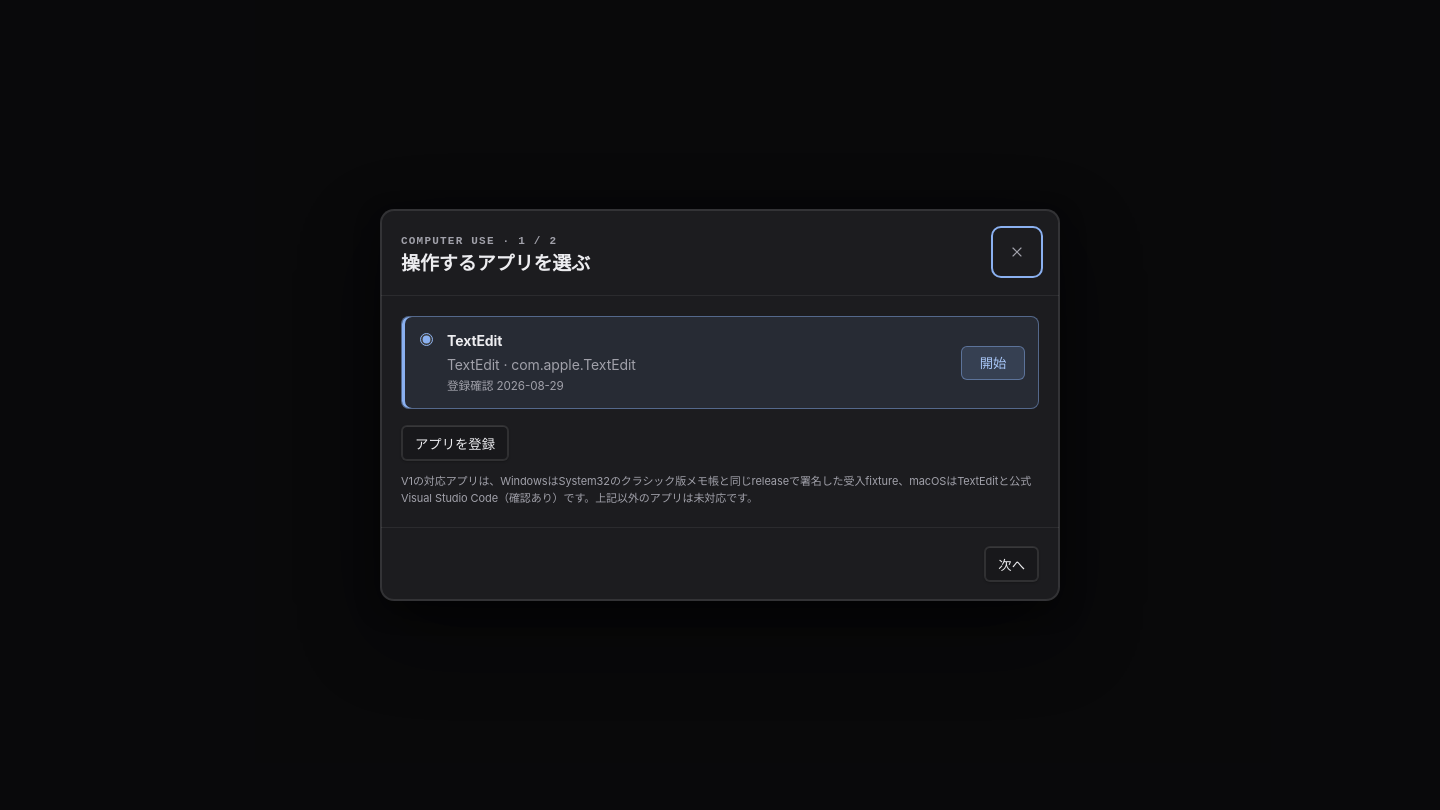
Test: Computer Use onboarding interaction › makes an unattested selected target explicitly supervised and never quick-starts it
The width and height of the screenshot is (1440, 810).
Click the button "開始".
click(993, 362)  # box [961,346,1025,380]
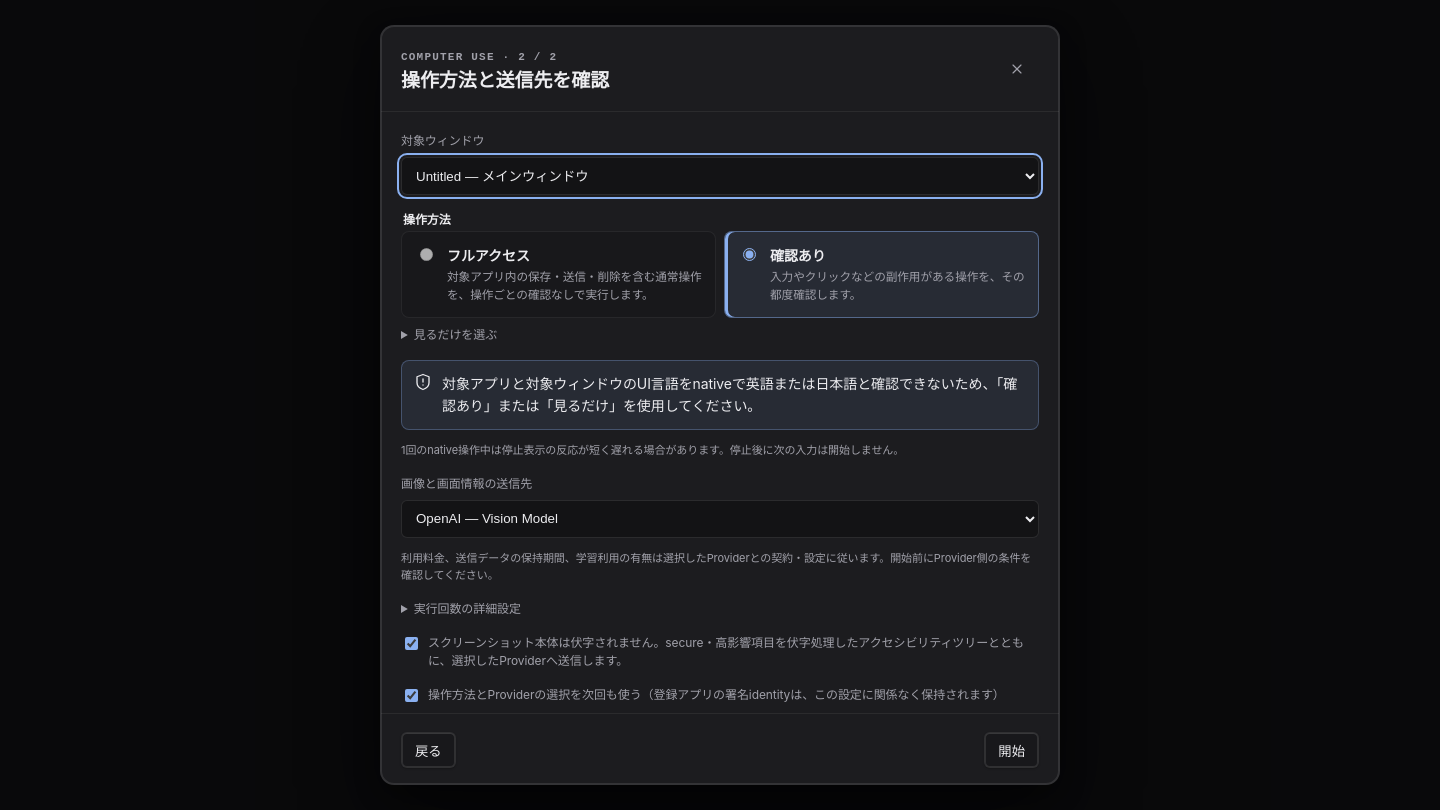
Expected: the text "操作方法と送信先を確認" is shown, [401,68,609,93]
Expected: the radio button labelled "フルアクセス 対象アプリ内の保存・送信・削除を含む通常操作を、操作ごとの確認なしで実行します。" is disabled, [420,248,433,261]
Expected: the radio button labelled "確認あり 入力やクリックなどの副作用がある操作を、その都度確認します。" is checked, [743,248,756,261]
